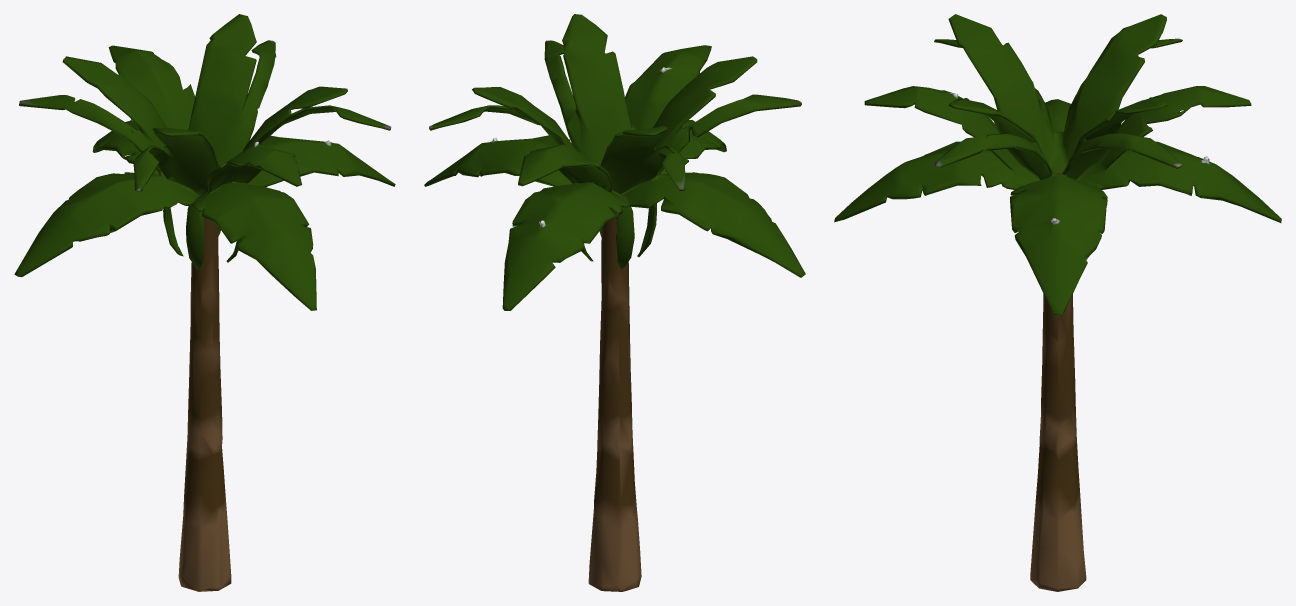
The model's file is gen3d-cycad-palm-lod0.glb.
The picture shows the model from 3 angles, left to right: view 1: azimuth 30°, elevation 25°; view 2: azimuth 150°, elevation 25°; view 3: azimuth 270°, elevation 25°; orthographic projection. The views are drawn at different scales.
Parts seen in each view (by area): view 1: part_0; view 2: part_0; view 3: part_0.
Part boxes in pixels (bbox=[...]): part_0: bbox=[14, 14, 395, 591]; part_0: bbox=[424, 14, 805, 591]; part_0: bbox=[834, 14, 1281, 591].
Size of the model in its own units: 0.7785 by 0.9999 by 0.7792.
